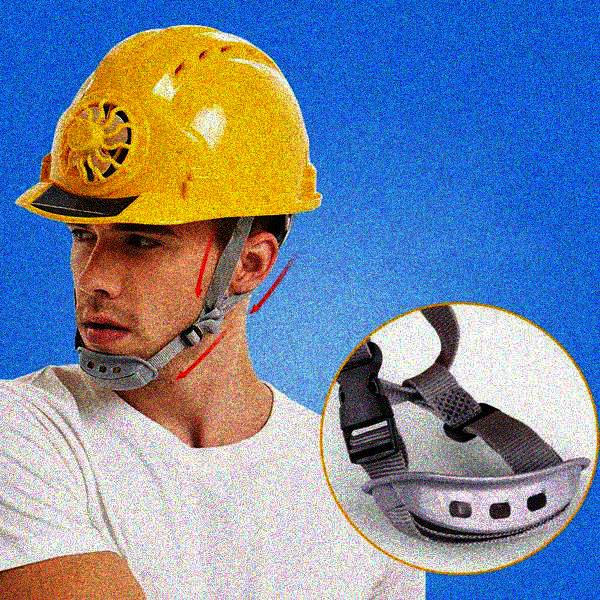helmet: (13, 22, 326, 383)
